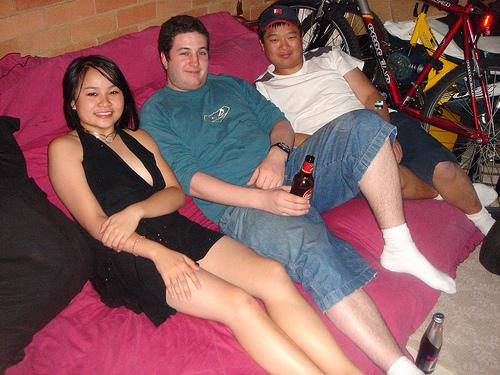bottle: (416, 313, 446, 375), (290, 156, 316, 202)
car: (258, 1, 500, 209)
person: (138, 14, 458, 375), (49, 55, 364, 375), (252, 5, 500, 238)
sofa: (1, 12, 485, 375)
